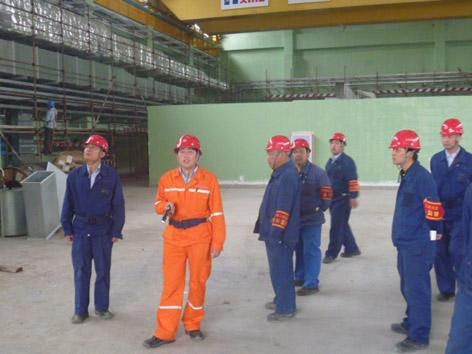red: (388, 128, 423, 167), (173, 133, 205, 172), (265, 134, 292, 169), (82, 135, 109, 164), (440, 118, 463, 149), (290, 138, 309, 165), (329, 132, 347, 154)
